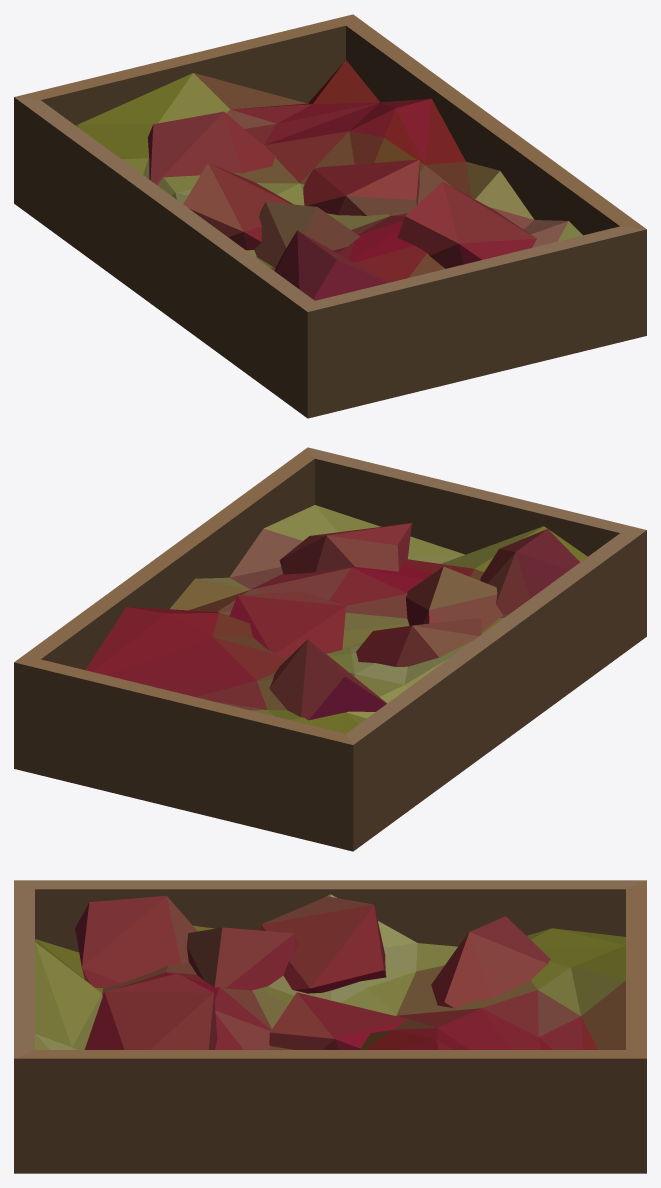
The model's file is Prop_FoodBoxF.fbx.
3 views of the same model, one above another, from view 1: azimuth 30°, elevation 25°; view 2: azimuth 150°, elevation 25°; view 3: azimuth 270°, elevation 25° (orthographic). The views are drawn at different scales.
Visible parts, largest first — view 1: Prop_FoodBoxF; view 2: Prop_FoodBoxF; view 3: Prop_FoodBoxF.
Part boxes in pixels (box(x1,y1,x2,y2)): Prop_FoodBoxF: box(14, 14, 646, 418); Prop_FoodBoxF: box(14, 447, 646, 851); Prop_FoodBoxF: box(14, 880, 646, 1173).
Size of the model in its own units: 50 by 21.3 by 75.
